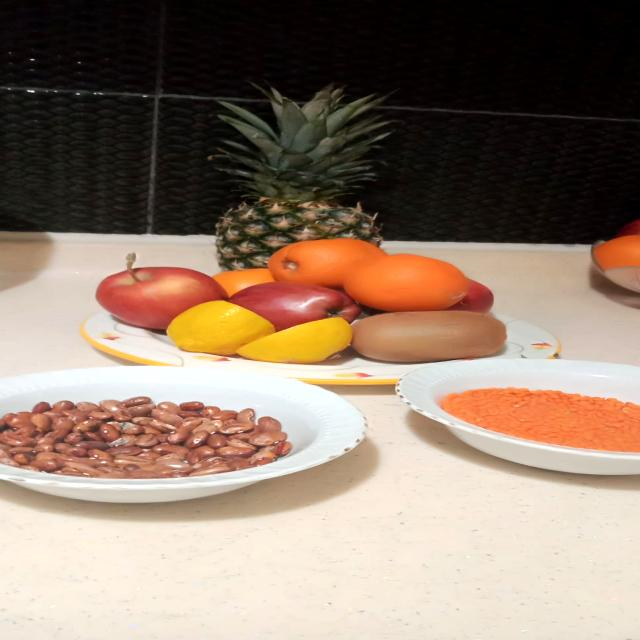red lentils: (436, 371, 640, 470)
